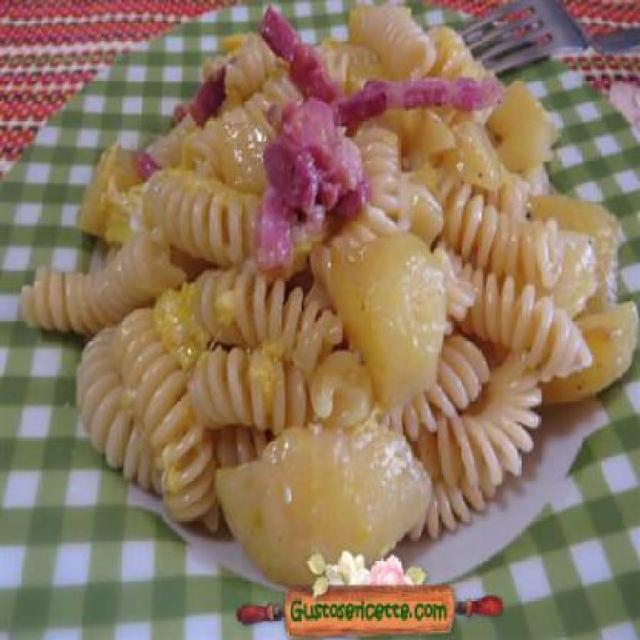Pasta with carbonara sauce: (56, 19, 638, 552)
